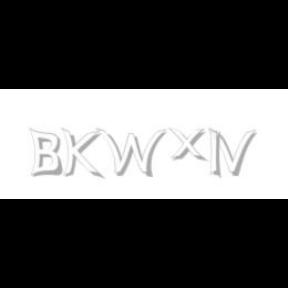B: (28, 128, 62, 178)
K: (61, 128, 101, 180)
V: (209, 128, 257, 176)
W: (95, 128, 167, 178)
l: (209, 128, 225, 180)
x: (168, 128, 210, 162)
